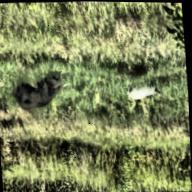boar: (12, 71, 69, 112)
